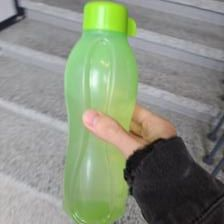bottle: (61, 3, 141, 223)
